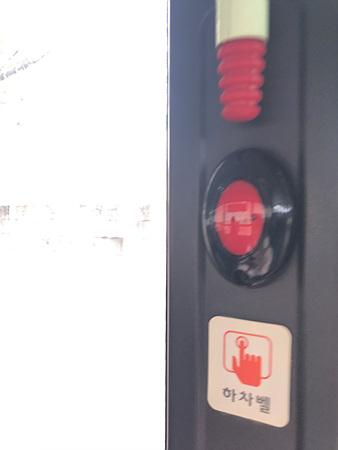bell: (203, 148, 299, 287)
